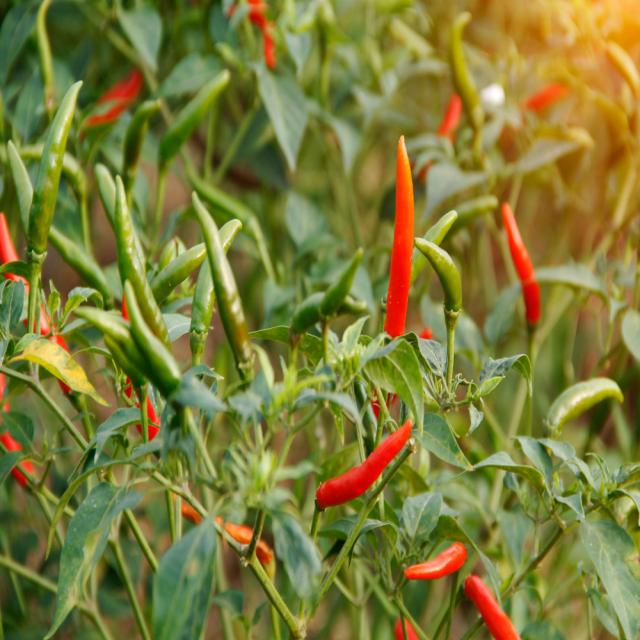Ripe: (316, 420, 412, 508), (384, 135, 414, 336), (501, 202, 541, 325), (465, 575, 521, 640), (405, 542, 466, 579)
Unripe: (191, 191, 254, 381), (114, 176, 171, 350), (28, 81, 82, 254), (289, 247, 362, 346), (124, 279, 181, 396), (159, 69, 230, 162), (49, 225, 114, 307), (81, 310, 147, 385), (544, 377, 624, 436), (122, 99, 160, 201), (150, 244, 206, 305), (414, 238, 461, 310), (62, 152, 90, 252), (190, 257, 215, 365), (8, 141, 34, 237), (94, 163, 116, 228), (219, 219, 241, 252), (20, 144, 43, 159)
